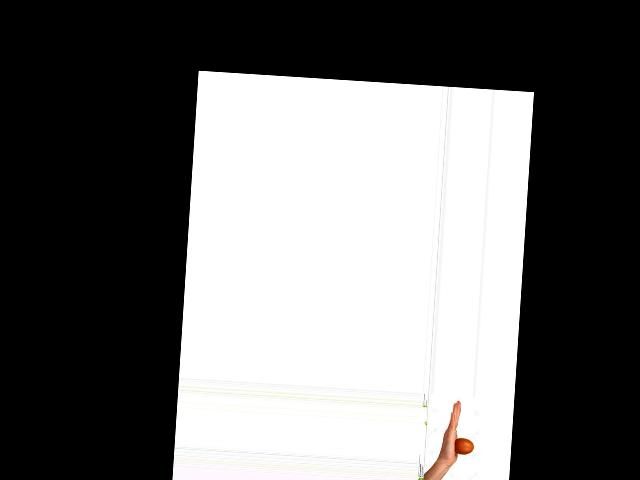egg: (453, 437, 474, 454)
